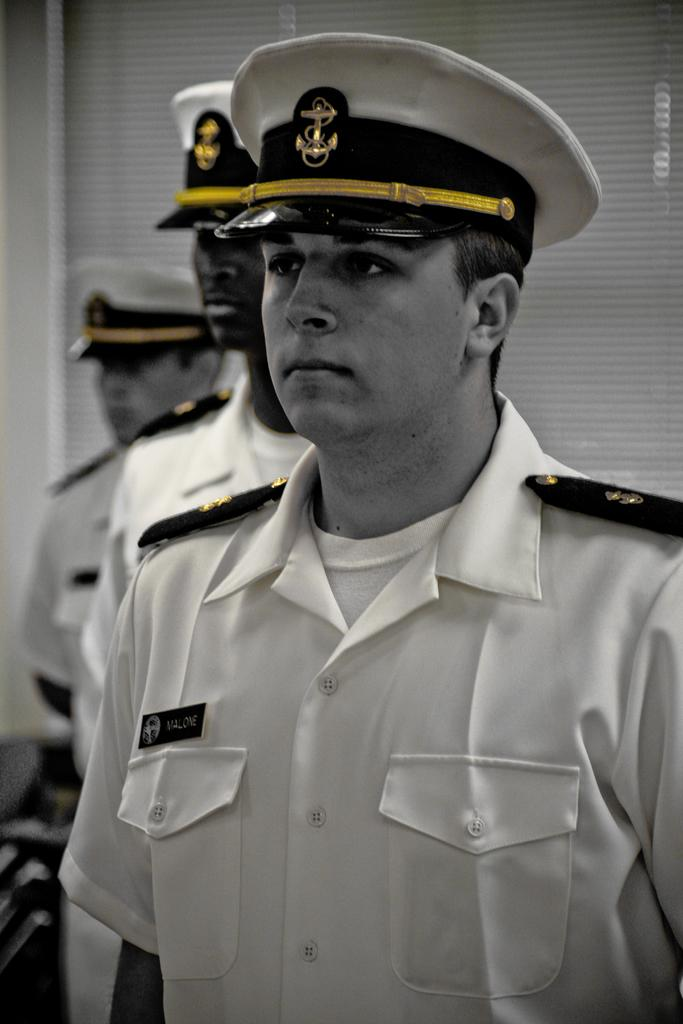Hat: (215, 32, 606, 256), (154, 76, 260, 232), (65, 259, 208, 361)
